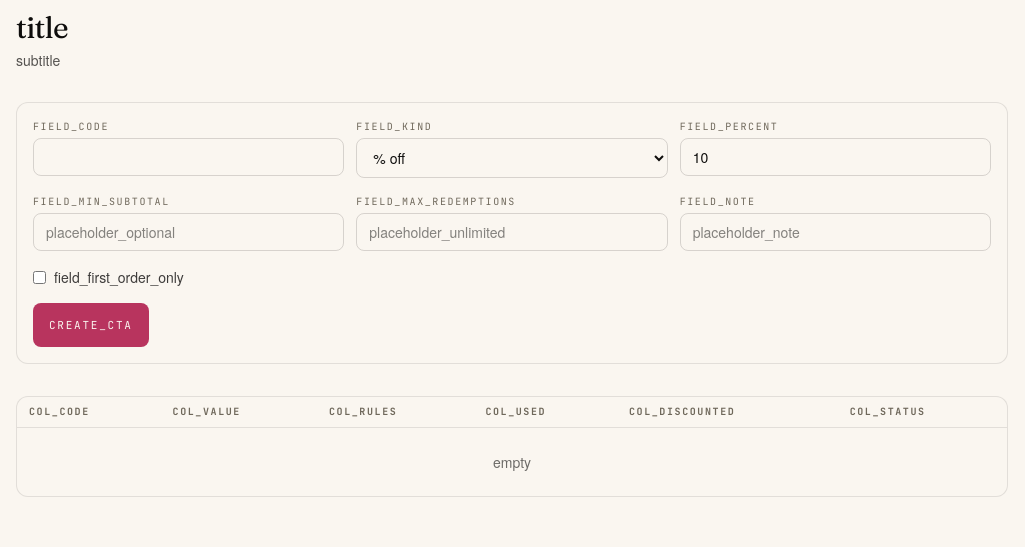
PromosView › tells the owner when the code already exists
This screenshot has width=1025, height=547.
Type "DUP" into the field labelled "field_code" at (189, 157), box [33, 138, 344, 176]
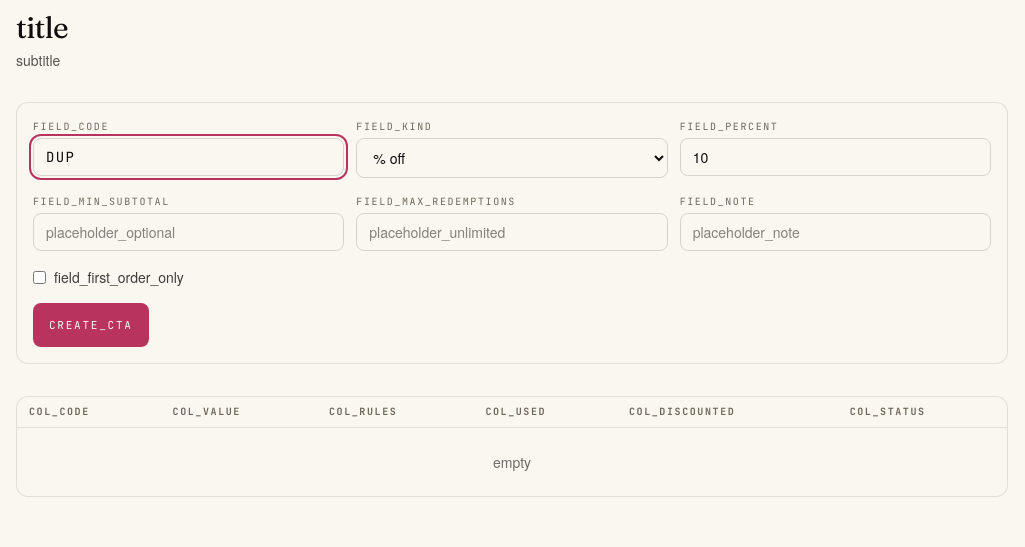
Click the button "create_cta" at (91, 325), box [33, 303, 149, 347]
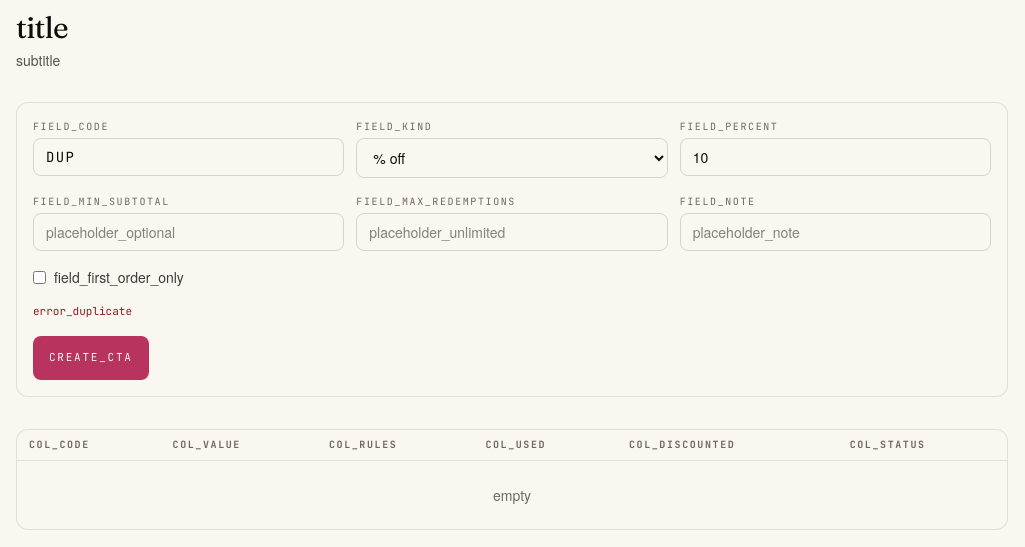
Expected: the message reads "error_duplicate", [33, 304, 132, 318]
